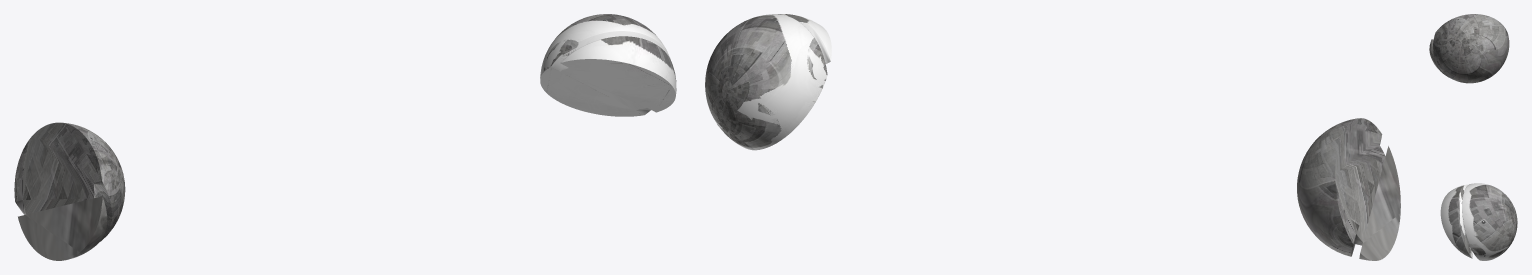
Rendered from Drone166_000031.obj.
The picture shows the model from 3 angles, left to right: view 1: azimuth 30°, elevation 25°; view 2: azimuth 150°, elevation 25°; view 3: azimuth 270°, elevation 25°; orthographic projection. The views are drawn at different scales.
Visible parts, largest first — view 1: Sphere.000_Sphere.002, Sphere.001; view 2: Sphere.001, Sphere.000_Sphere.002; view 3: Sphere.001, Sphere.000_Sphere.002.
Boxes of the visible parts, left/top/right/bottom form: Sphere.000_Sphere.002: left=14, top=122, right=125, bottom=260; Sphere.001: left=540, top=14, right=676, bottom=116; Sphere.001: left=705, top=14, right=831, bottom=150; Sphere.000_Sphere.002: left=1297, top=118, right=1400, bottom=260; Sphere.001: left=1440, top=183, right=1517, bottom=260; Sphere.000_Sphere.002: left=1429, top=14, right=1509, bottom=83.
Size of the model in its own units: 10.87 by 2.32 by 2.22.
4 materials, 4 textured.
